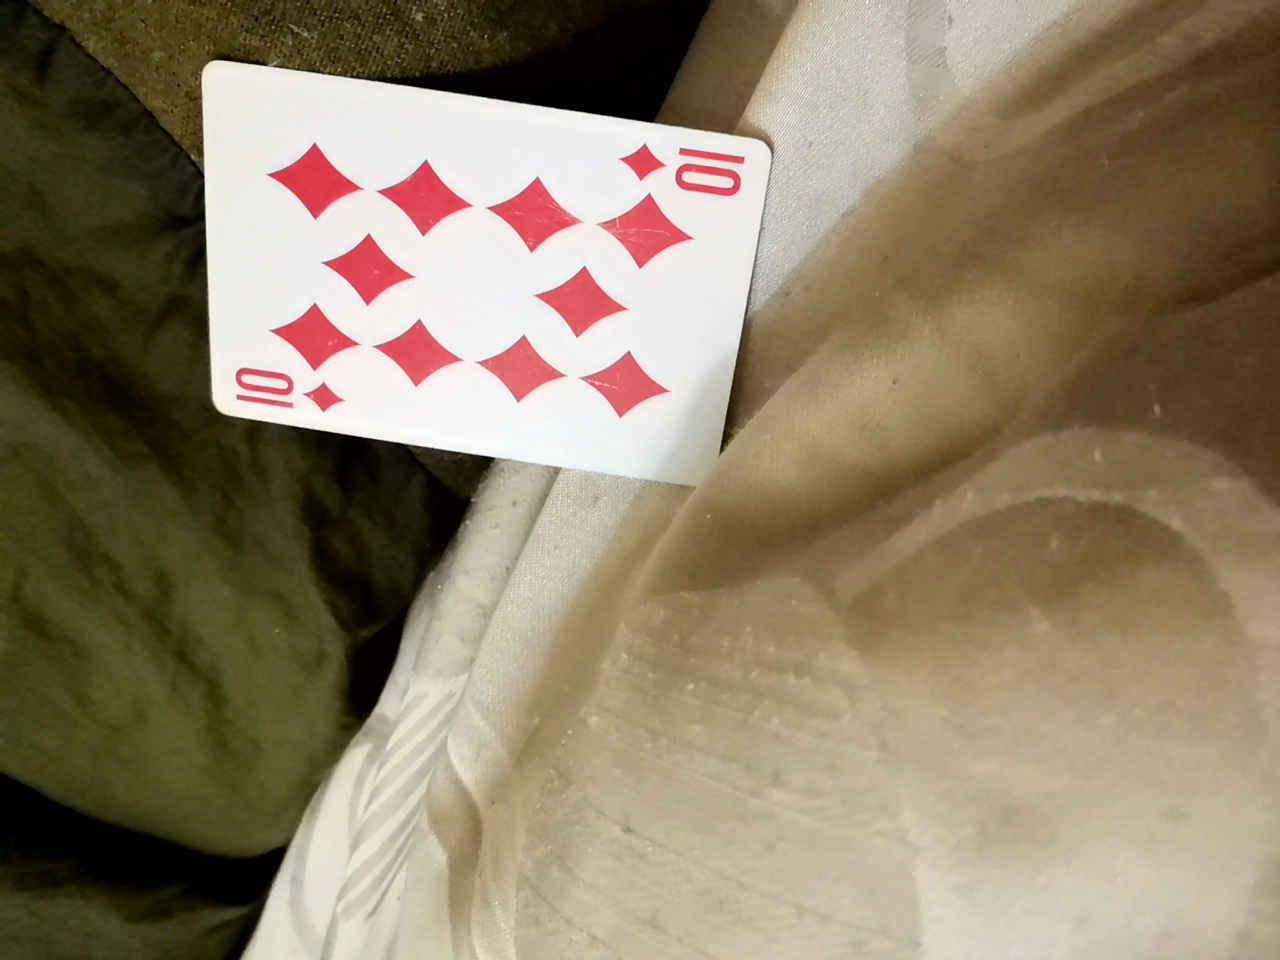fk 10: (159, 104, 757, 521)
